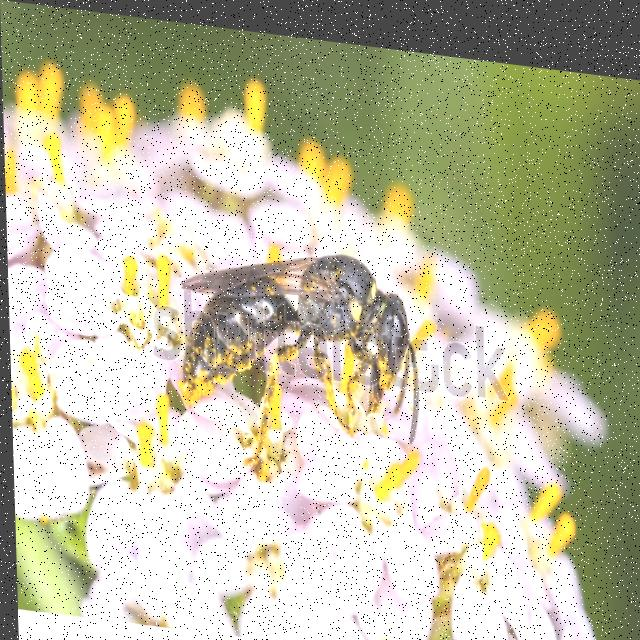Seladonia: (163, 223, 428, 470)
